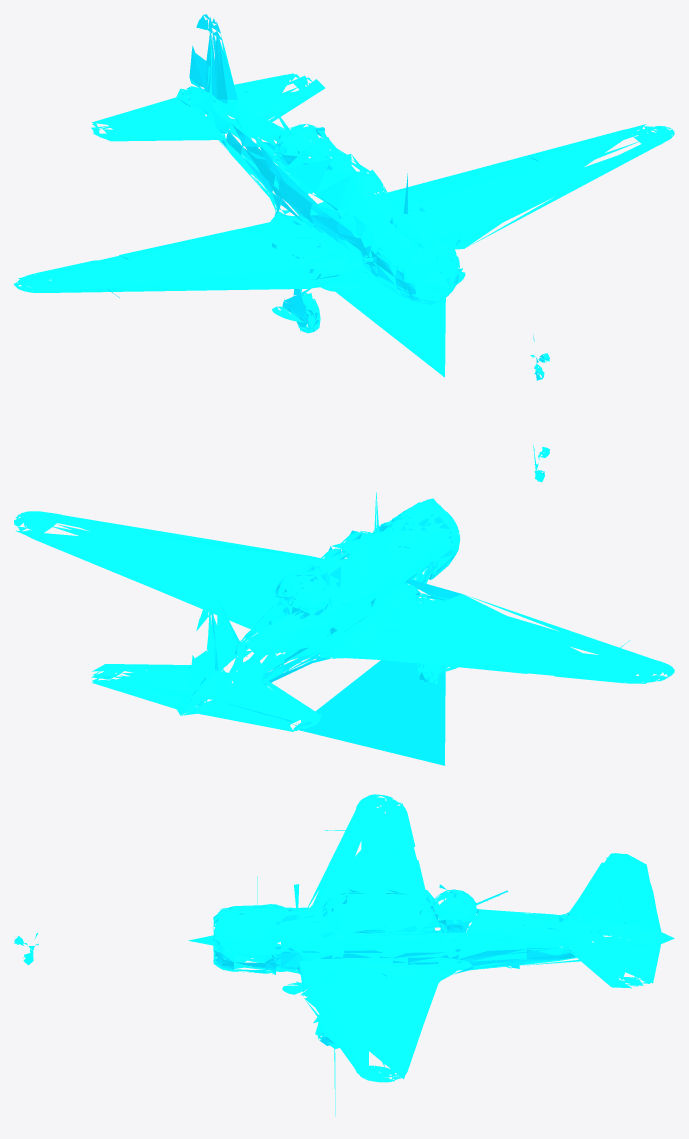
Rendered from PRAB701.glb.
The picture shows the model from 3 angles, top to bottom: view 1: azimuth 30°, elevation 25°; view 2: azimuth 150°, elevation 25°; view 3: azimuth 270°, elevation 25°; orthographic projection. The views are drawn at different scales.
Visible parts, largest first — view 1: misc; view 2: misc; view 3: misc.
Boxes of the visible parts, x1,y1,x2,y2 form: misc: (14, 14, 674, 380); misc: (14, 443, 674, 765); misc: (14, 794, 674, 1116).
Size of the model in its own units: 0.9496 by 0.3668 by 0.9224.
